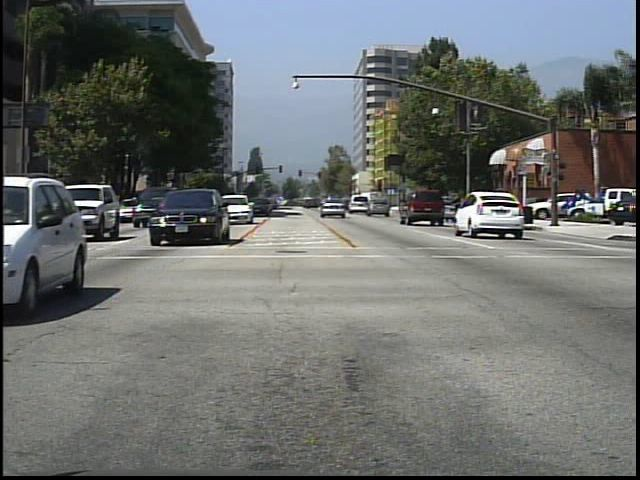person: (438, 192, 457, 225), (474, 189, 492, 218)
